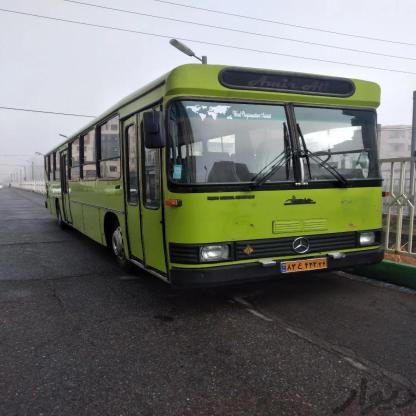Bus: (46, 52, 390, 290)
